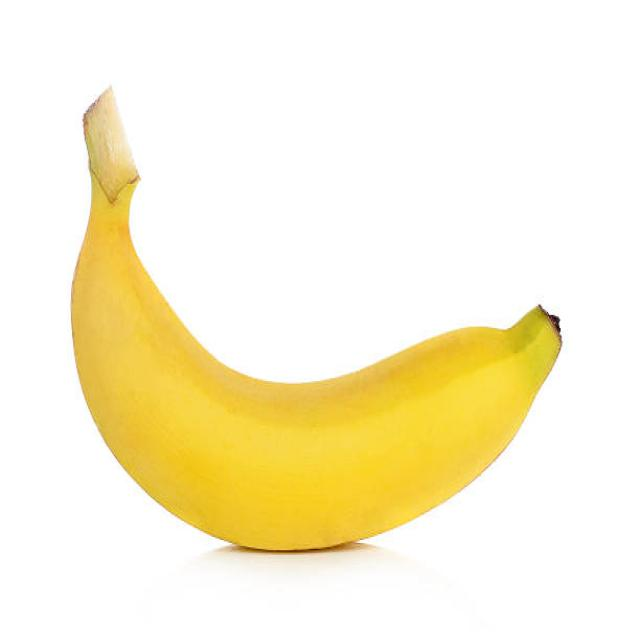Ripe: (68, 87, 565, 559)
